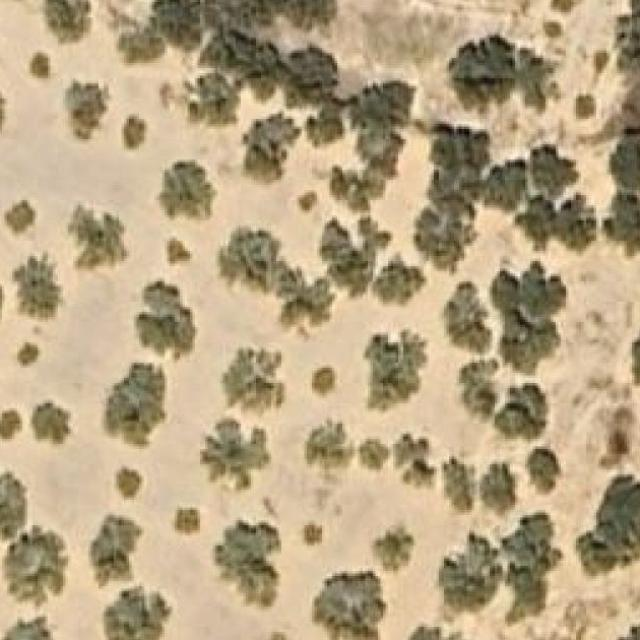Tree: (439, 510, 554, 612), (493, 261, 569, 376), (573, 477, 640, 581), (212, 518, 282, 613), (362, 330, 428, 417), (315, 213, 385, 295), (104, 363, 168, 452), (200, 417, 271, 492), (134, 278, 198, 358), (315, 571, 386, 640), (224, 348, 288, 422), (2, 534, 68, 604), (361, 434, 436, 495), (218, 223, 284, 290), (68, 202, 132, 271), (91, 513, 146, 587), (101, 586, 172, 640), (12, 253, 66, 322), (158, 162, 218, 224), (452, 40, 508, 106), (282, 274, 338, 338), (182, 70, 241, 130), (419, 205, 473, 270), (444, 282, 490, 352), (494, 383, 548, 442), (244, 116, 298, 175), (63, 78, 112, 142), (284, 46, 336, 106), (30, 0, 91, 48), (370, 259, 424, 312), (611, 96, 640, 193), (356, 78, 412, 128), (528, 142, 582, 192), (114, 20, 168, 68), (307, 416, 352, 471), (152, 0, 204, 45), (371, 520, 416, 571), (459, 361, 498, 416), (0, 464, 27, 543), (525, 446, 564, 495), (31, 401, 74, 445), (483, 464, 516, 513), (305, 101, 340, 147), (444, 459, 472, 510), (403, 623, 484, 640), (616, 193, 640, 249), (0, 616, 54, 640), (5, 197, 36, 236), (121, 114, 149, 154), (114, 464, 142, 500), (172, 507, 200, 535), (632, 325, 640, 422), (17, 339, 41, 368), (312, 368, 335, 398), (0, 411, 22, 441), (30, 51, 51, 81), (574, 96, 597, 122), (168, 239, 191, 264), (611, 621, 640, 640), (304, 525, 322, 544), (542, 22, 561, 38), (551, 0, 574, 12), (269, 632, 290, 640)
